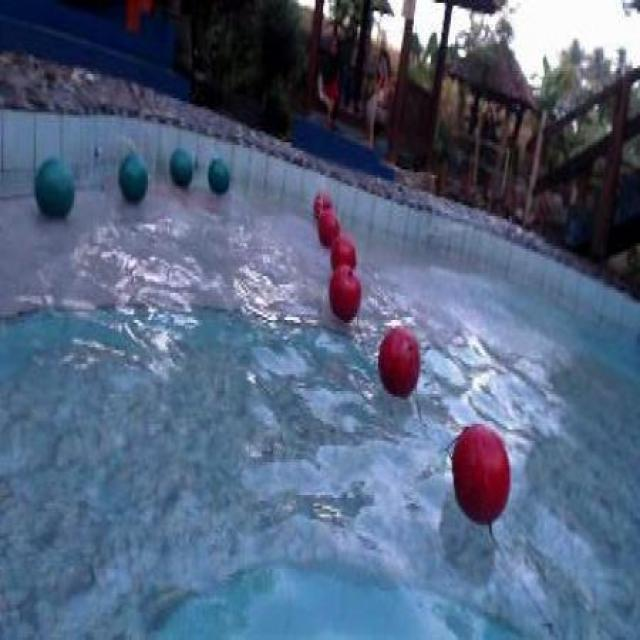buoy: (452, 421, 508, 525), (376, 326, 420, 396), (34, 154, 74, 219), (327, 264, 363, 322), (116, 153, 149, 203), (168, 145, 192, 189), (328, 232, 355, 271), (317, 206, 339, 248), (206, 156, 228, 194), (312, 192, 331, 218)
